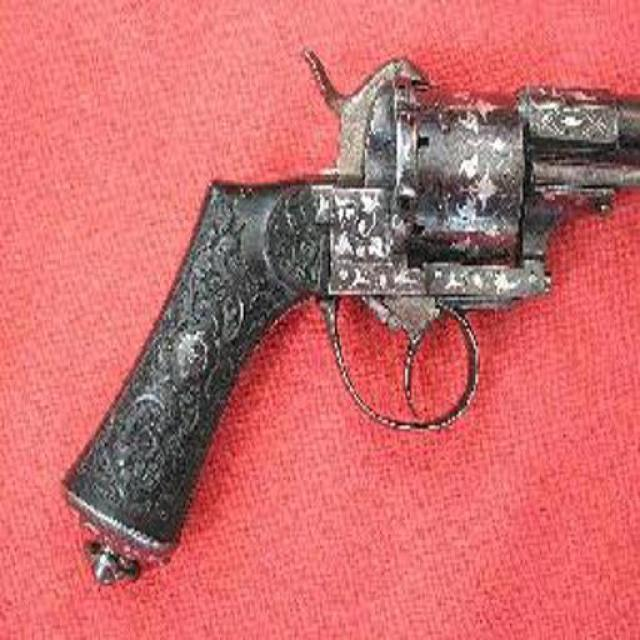pistol: (64, 43, 640, 588)
